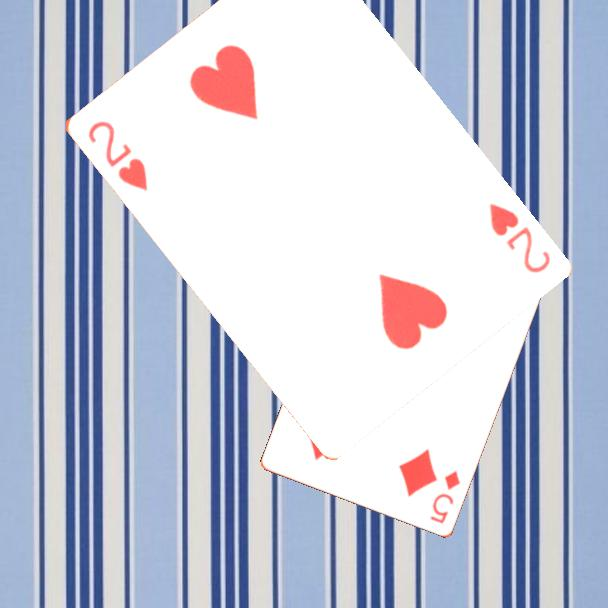d05: (427, 467, 463, 527)
h02: (484, 199, 553, 276), (83, 117, 150, 195)
